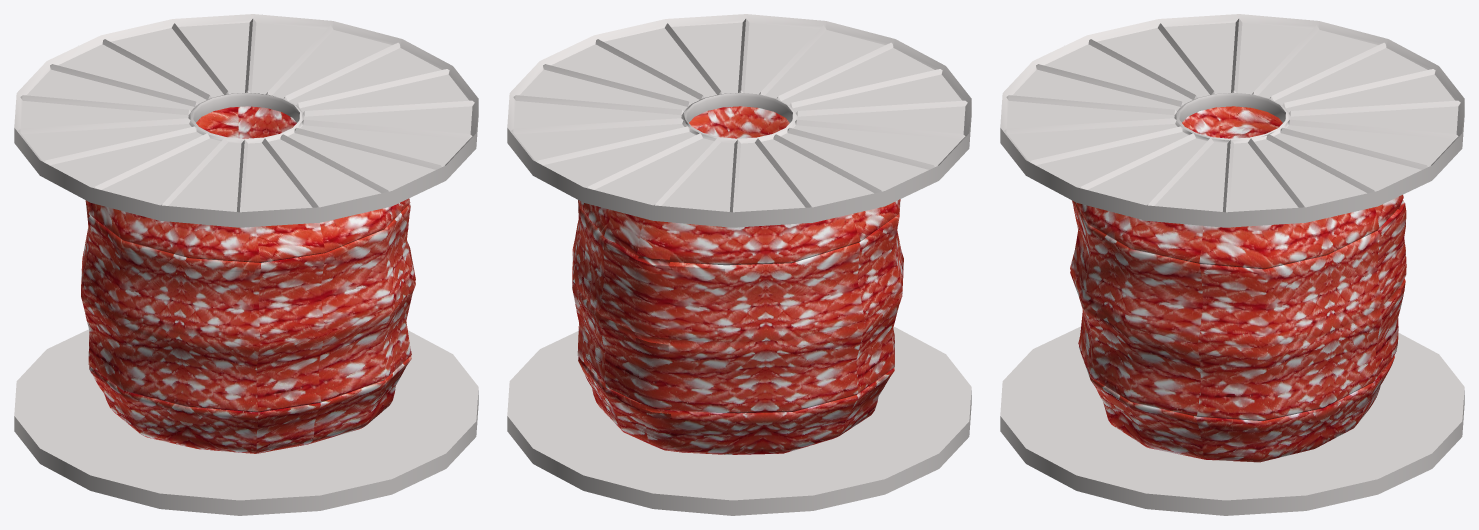
Rendered from MasonsCord.fbx.
3 views of the same model, side by side, from view 1: azimuth 30°, elevation 25°; view 2: azimuth 150°, elevation 25°; view 3: azimuth 270°, elevation 25° (orthographic).
Visible parts, largest first — view 1: Top, Rope, Button; view 2: Top, Rope, Button; view 3: Top, Rope, Button.
Part boxes in pixels (x1=…): Top: x1=14, y1=14, x2=478, y2=227; Rope: x1=81, y1=106, x2=415, y2=453; Button: x1=14, y1=329, x2=478, y2=515; Top: x1=507, y1=14, x2=971, y2=227; Rope: x1=572, y1=106, x2=903, y2=454; Button: x1=507, y1=327, x2=971, y2=515; Top: x1=1000, y1=14, x2=1464, y2=227; Rope: x1=1070, y1=106, x2=1406, y2=462; Button: x1=1000, y1=326, x2=1464, y2=515.
Size of the model in its own units: 4.03 by 2.88 by 3.99.
